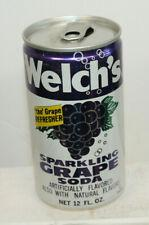metal: (23, 17, 124, 209)
